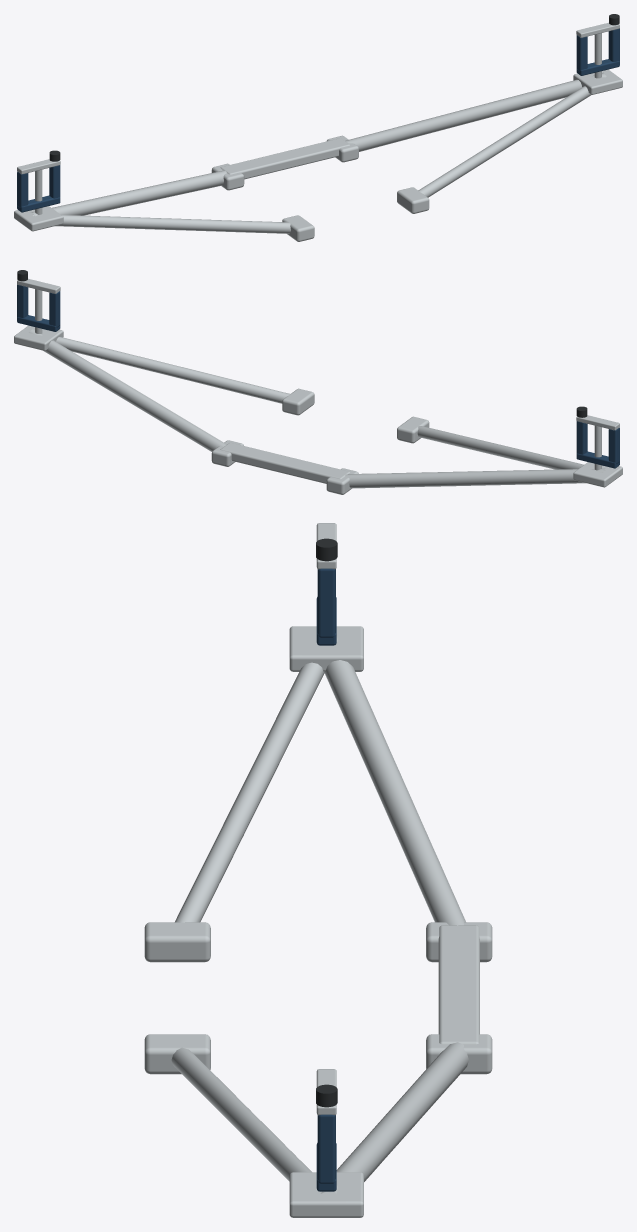
Rendered from rowing-boathouse-and-regatta-course-wing-rigger-f3629084__32133.glb.
3 renders of one model, top to bottom at view 1: azimuth 30°, elevation 25°; view 2: azimuth 150°, elevation 25°; view 3: azimuth 270°, elevation 25°, orthographic. The views are drawn at different scales.
Parts seen in each view (by area): view 1: wing-rigger; view 2: wing-rigger; view 3: wing-rigger.
Part boxes in pixels (x1=…): wing-rigger: x1=14, y1=14, x2=622, y2=241; wing-rigger: x1=14, y1=270, x2=622, y2=494; wing-rigger: x1=144, y1=523, x2=492, y2=1217.
Size of the model in its own units: 1.67 by 0.281 by 0.42.
